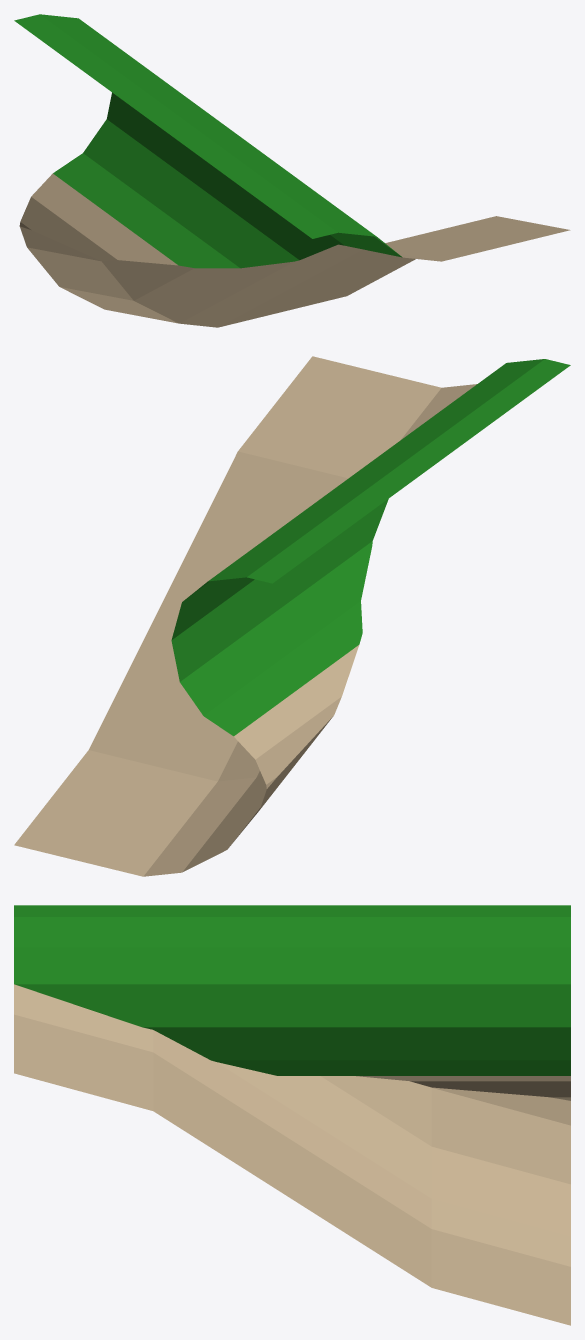
File: Escarpment_Terrain_Hill_Crest_Top.obj
3 renders of one model, top to bottom at view 1: azimuth 30°, elevation 25°; view 2: azimuth 150°, elevation 25°; view 3: azimuth 270°, elevation 25°, orthographic. The views are drawn at different scales.
Visible parts, largest first — view 1: object1; view 2: object1; view 3: object1.
Part boxes in pixels (x1=…): object1: x1=14, y1=14, x2=570, y2=327; object1: x1=14, y1=356, x2=570, y2=876; object1: x1=14, y1=905, x2=570, y2=1325.
Size of the model in its own units: 1 by 1.2 by 2.
